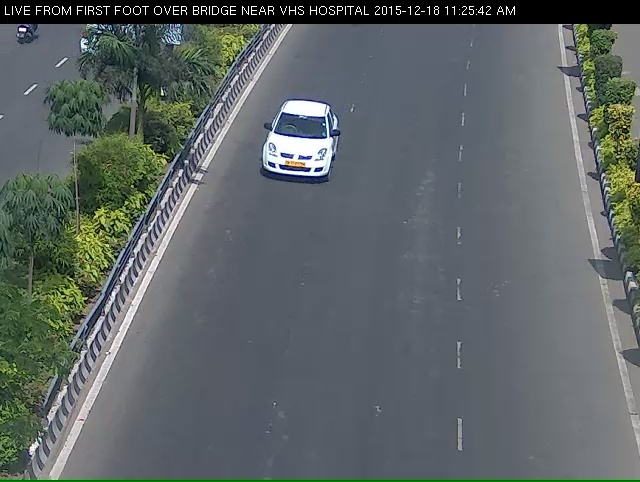Car: (248, 104, 348, 207)
